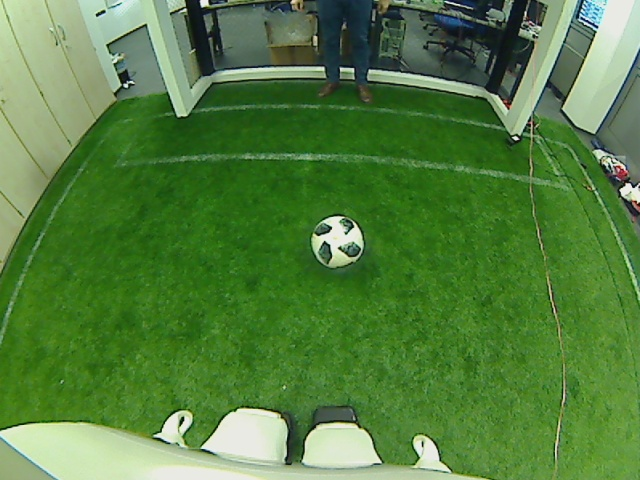ball: (308, 209, 366, 273)
